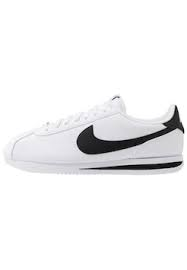nike: (70, 110, 179, 172)
